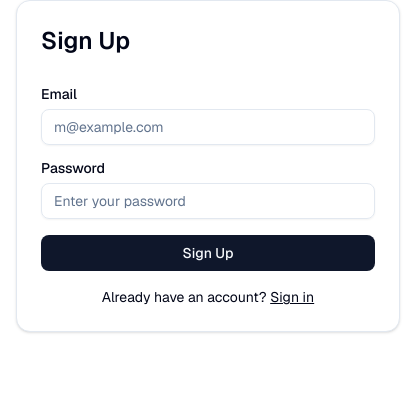
it: SignupForm › when user enters invalid data › should require email field
The width and height of the screenshot is (417, 406).
// Submit form without email
Click the button "Sign Up". click: (208, 253)
box: [41,235,375,271]
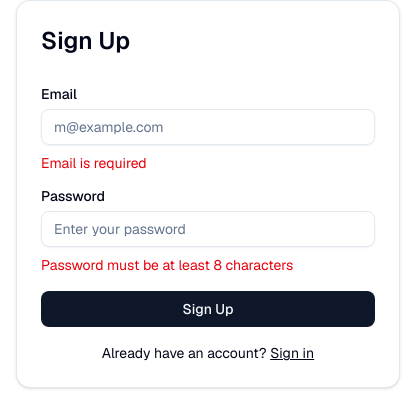
Expected: the text "Email is required" is shown, [41,154,147,172]
